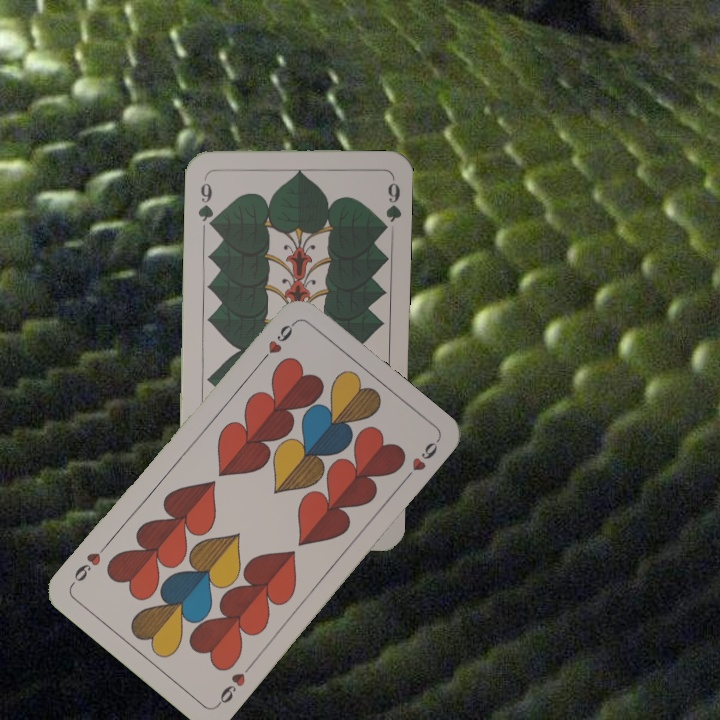G9: (193, 171, 217, 231)
H9: (212, 660, 255, 709), (255, 318, 298, 367)
